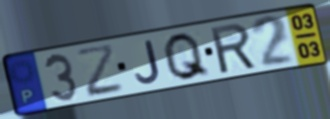2: (250, 14, 299, 71)
3: (44, 51, 79, 104)
J: (133, 38, 163, 86)
Q: (161, 31, 213, 83)
R: (207, 21, 259, 76)
Z: (73, 41, 127, 100)
